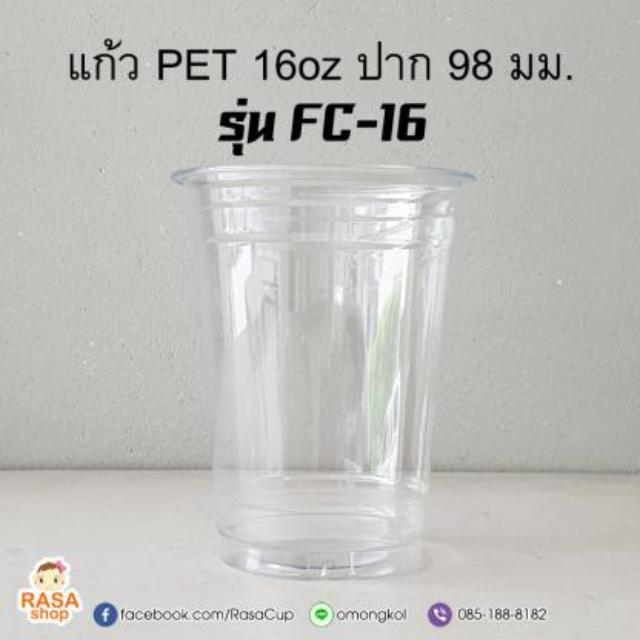plastic_box: (168, 164, 478, 582)
